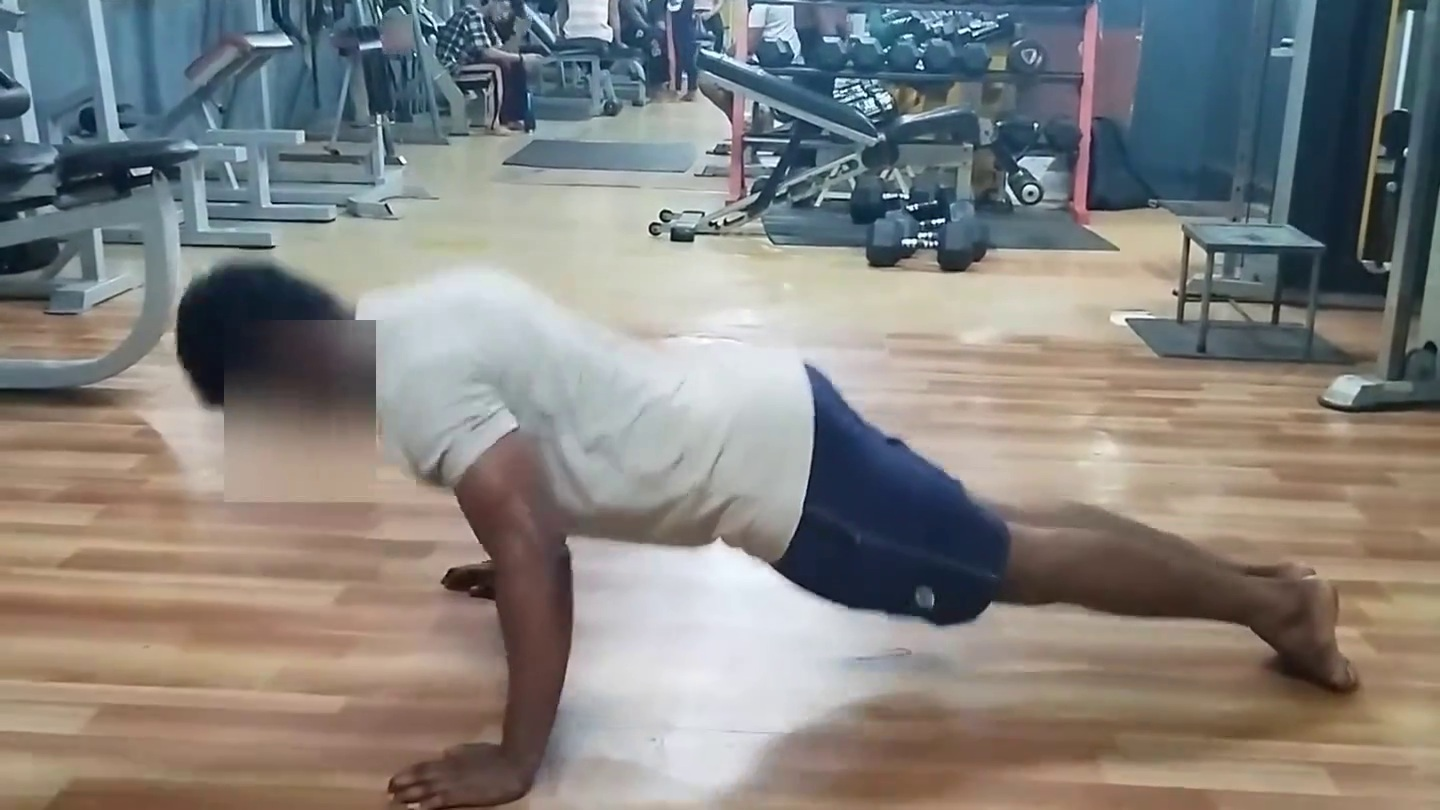push_up: (148, 221, 1414, 810)
